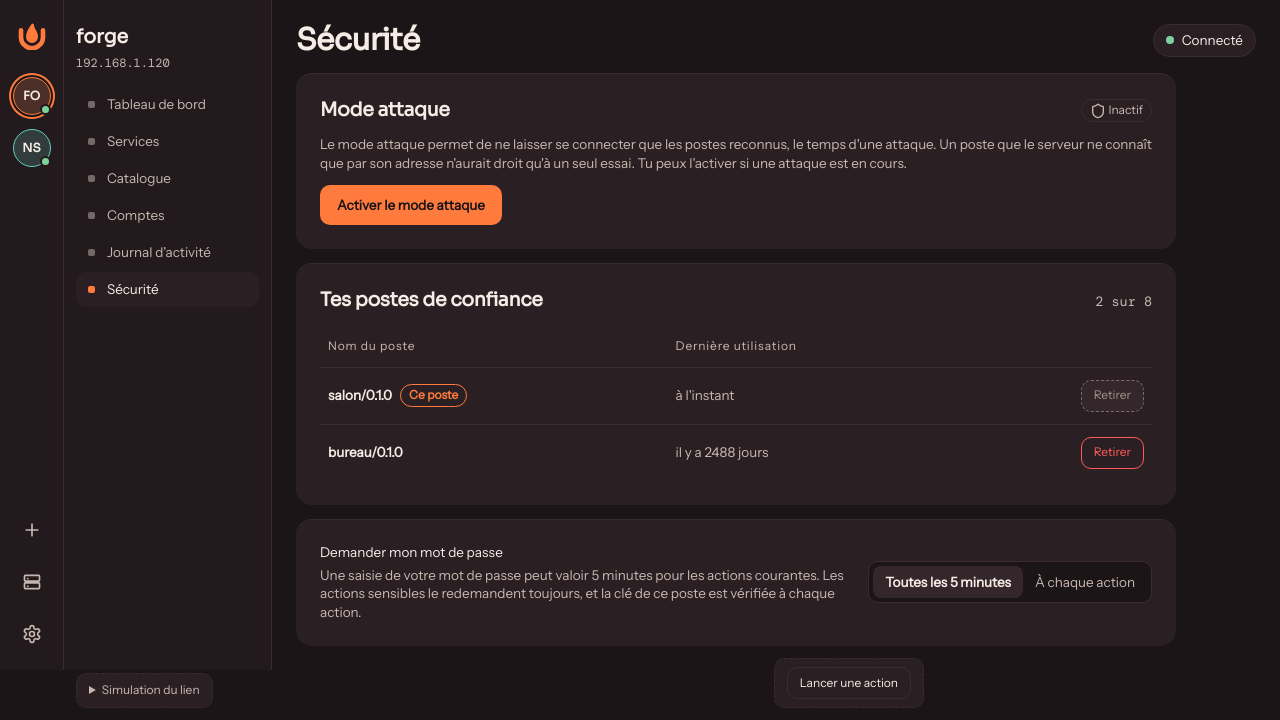
Test case: Sécurité : retirer un poste › a device already removed elsewhere is said and the list is read again
Click the button with aria-label "Retirer bureau/0.1.0".
click(1112, 453)  # box [1081,437,1144,469]
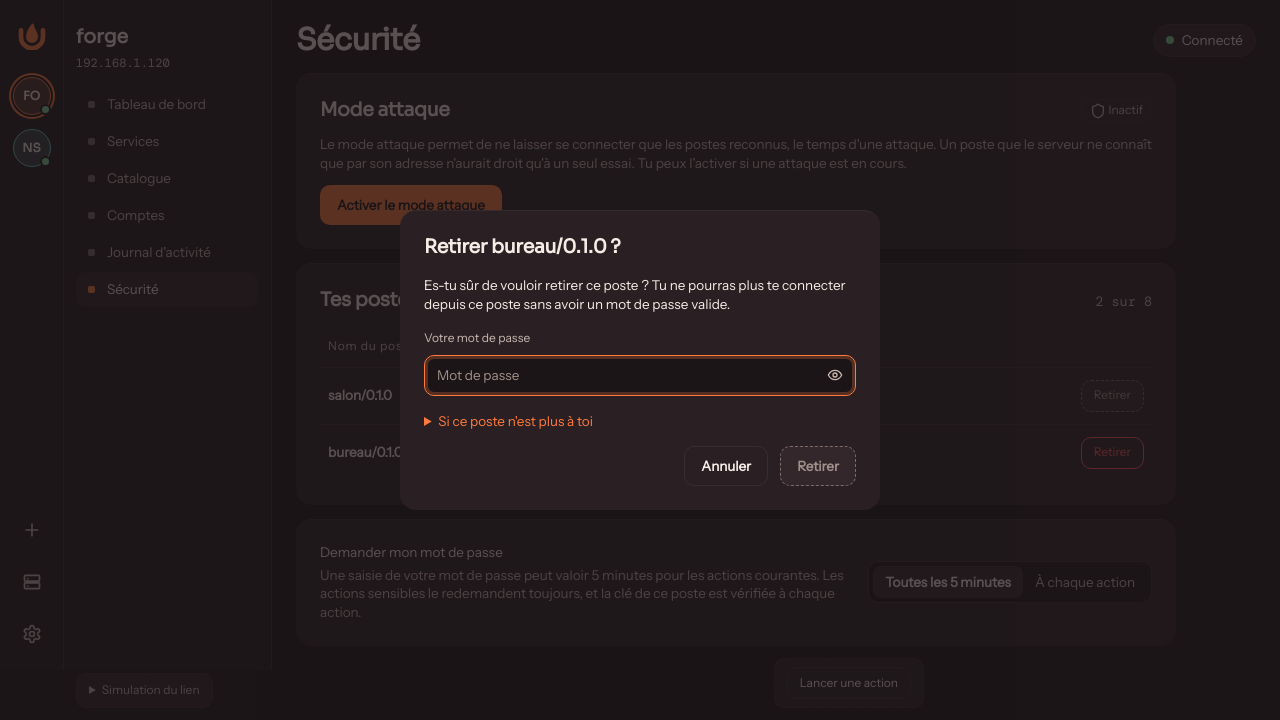
Type "Correct-Horse-9" into the password field labelled "Votre mot de passe".
click(620, 375); type("Correct-Horse-9")  # box [425,356,815,395]
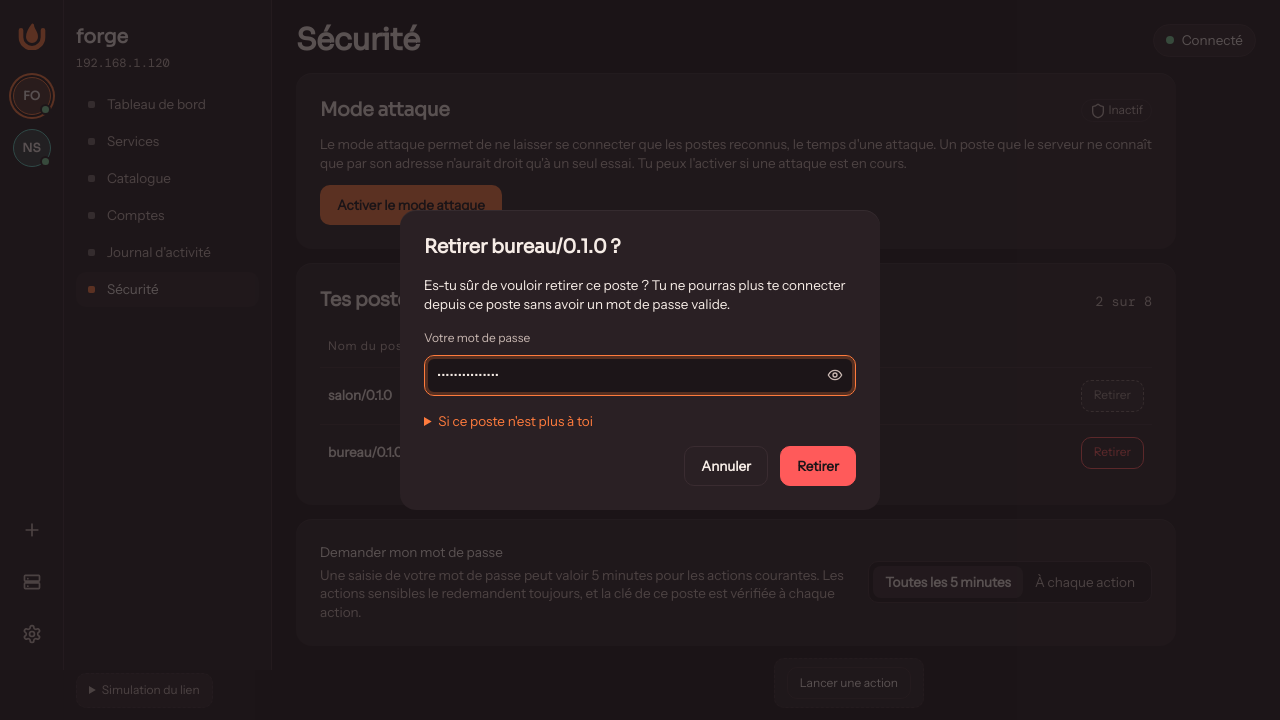
Click the button "Retirer".
click(818, 466)  # box [780,446,856,486]
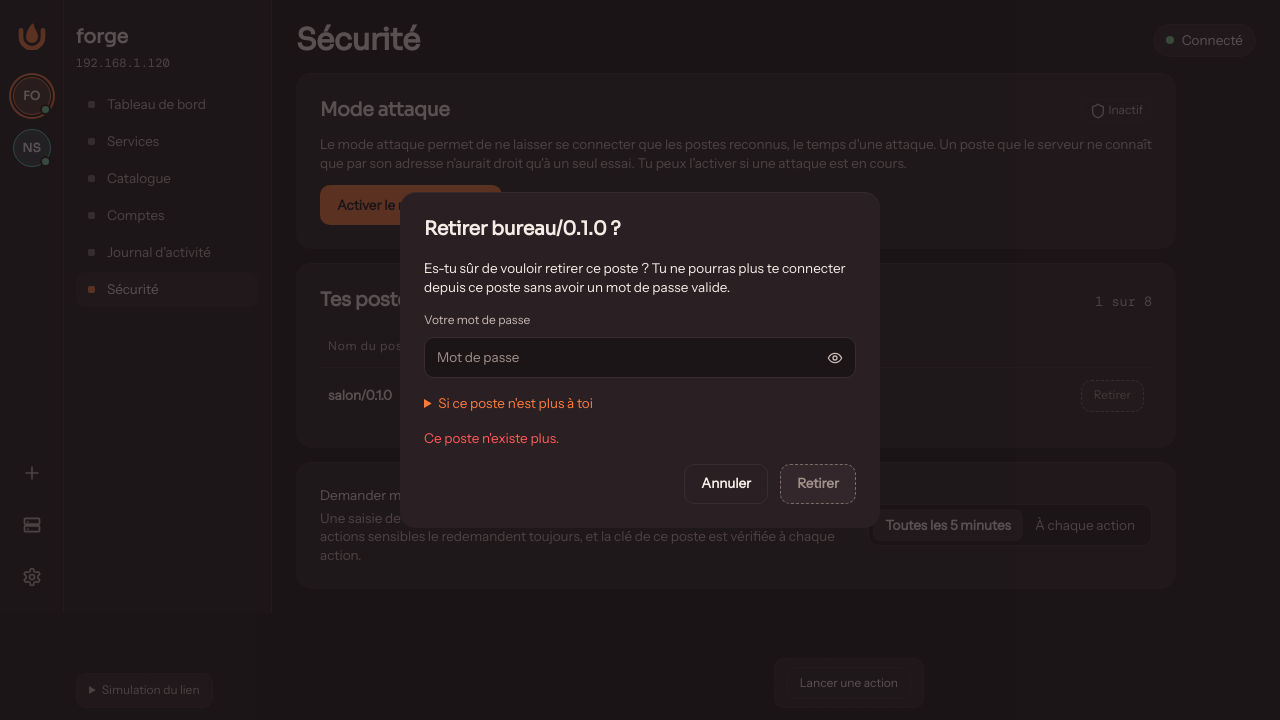
Now the dialog shows "Ce poste n'existe plus.", box [424,430,559,446]
